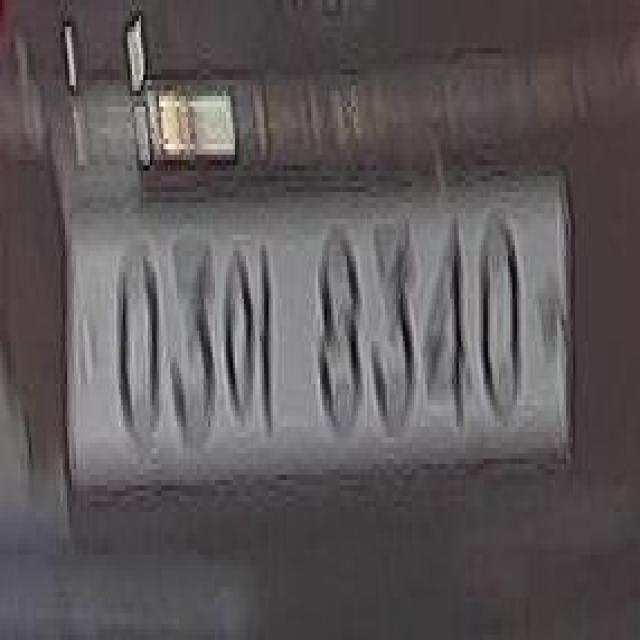illegal_plate: (84, 179, 569, 508)
